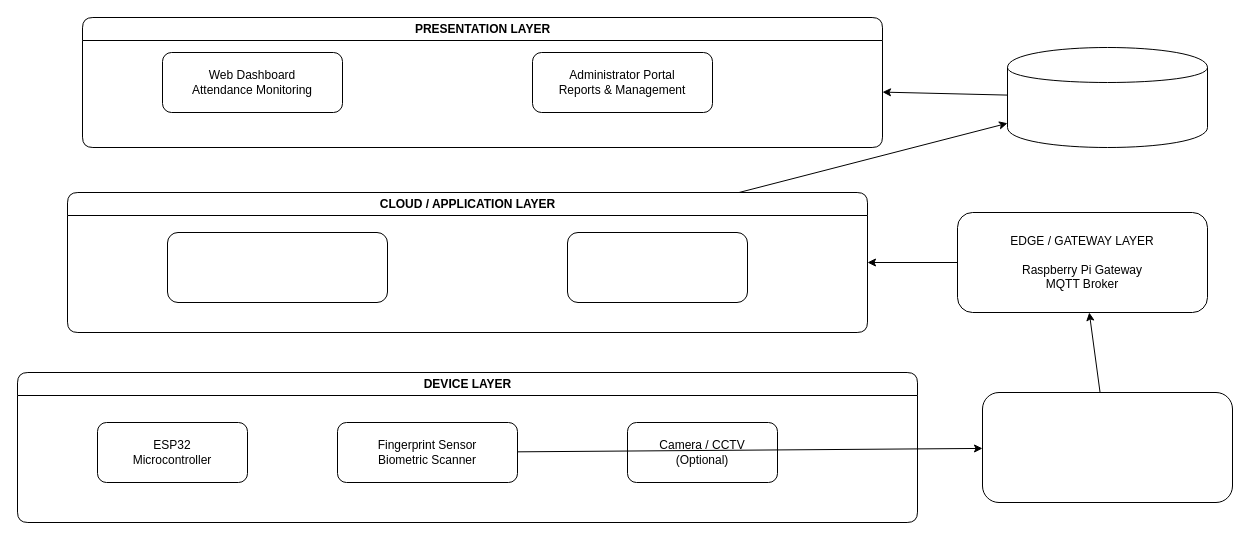
The diagram is 1250 pixels wide and 540 high, and some of its shapes have lost their labels. The shapes that lost their labels are listed below. From the top down, each one's centre as x and y in pixels, then its label:
At [1107,97]: "DATABASE LAYER PostgreSQL Student & Attendance Records".
At [277,267]: "REST API Visual Studio C# Application".
At [657,267]: "Node-RED IoT Data Processing".
At [1107,447]: "COMMUNICATION LAYER Wi-Fi MQTT HTTP/HTTPS".
